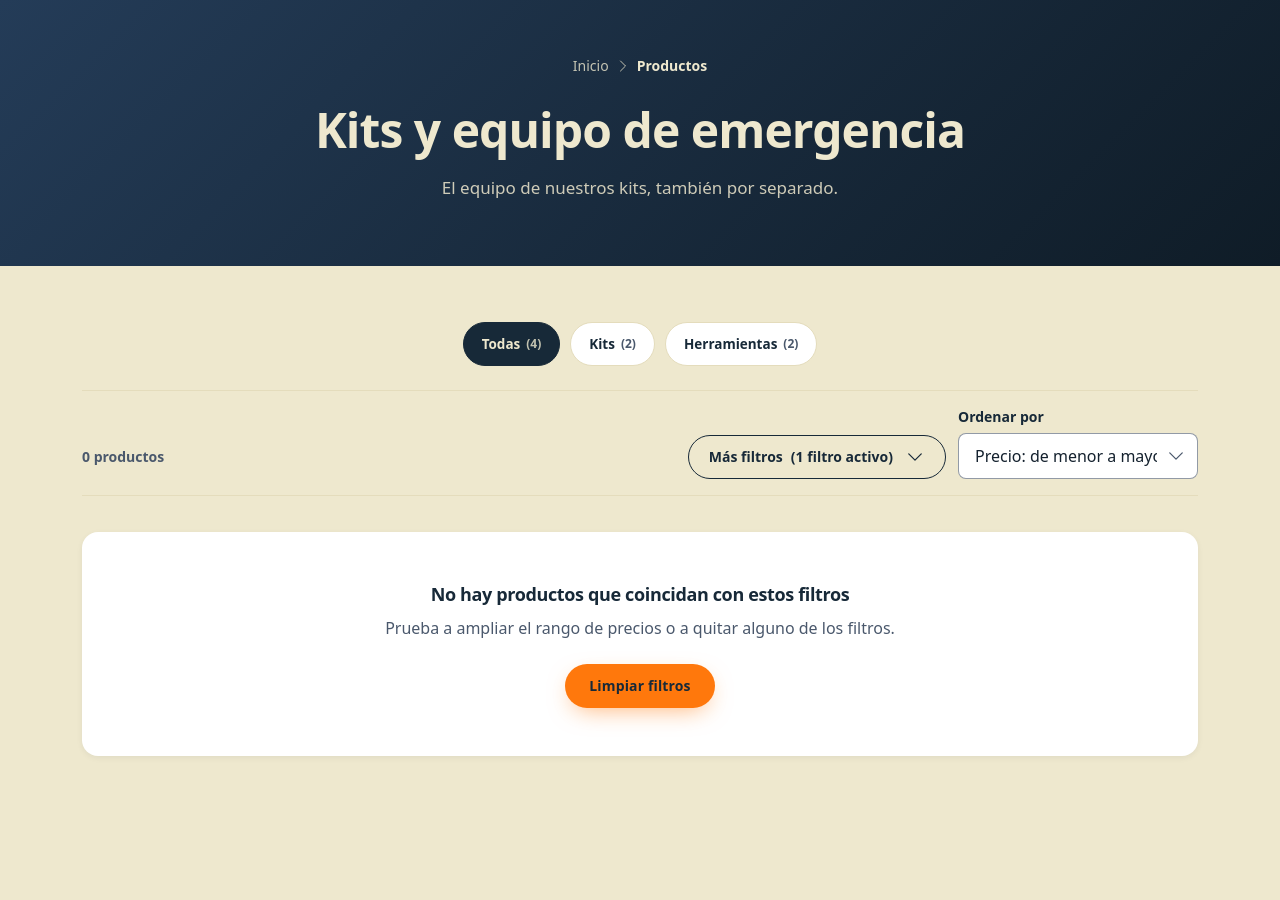
Test: CatalogView › starts from the server-parsed criteria and can clear the filters
Expected: the dropdown labelled "Ordenar por" shows "Precio: de menor a mayor", [958, 433, 1198, 479]
Expected: the text "0 productos" is shown, [82, 447, 164, 466]
Click the button "Limpiar filtros".
click(640, 686)  # box [565, 664, 715, 708]
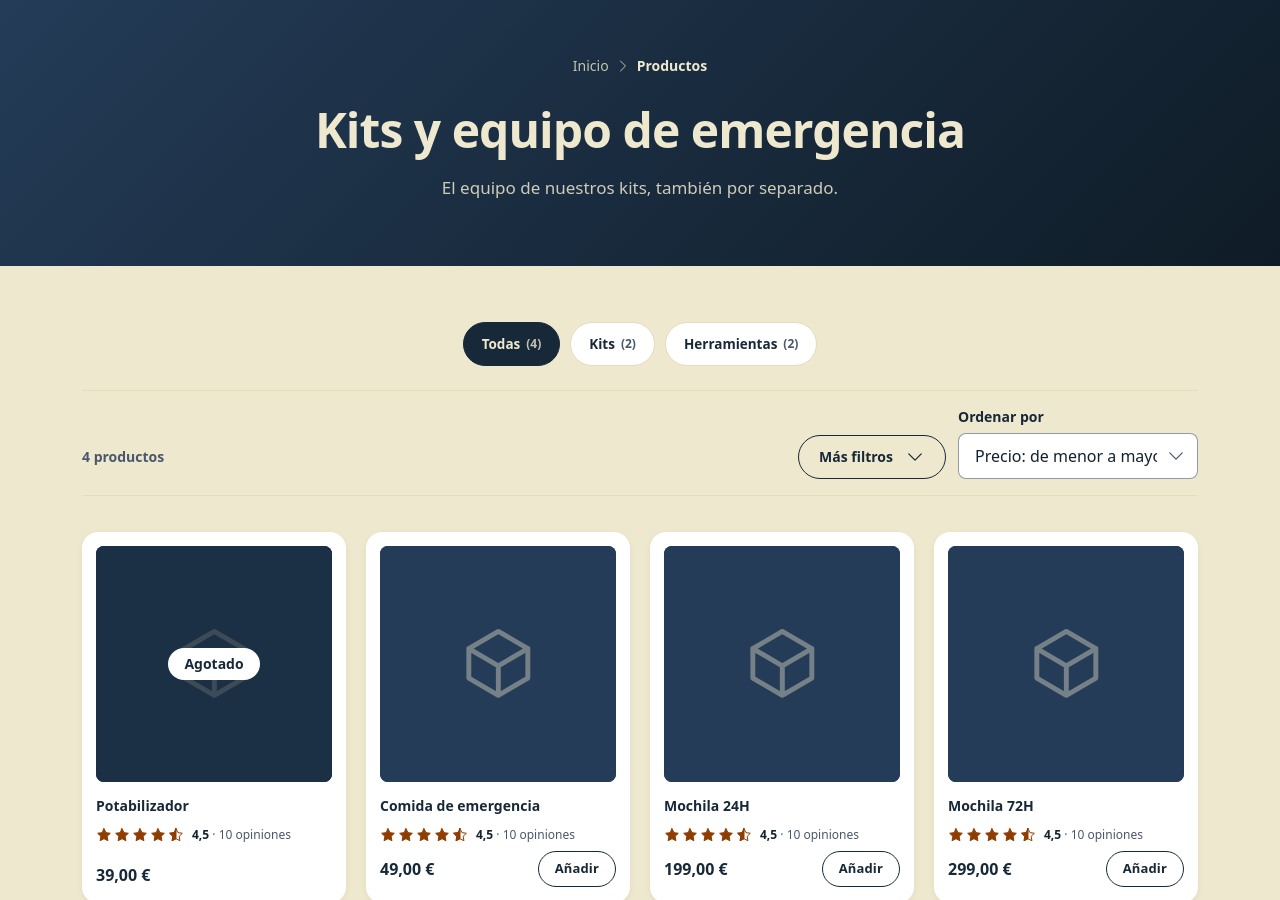
Result: the text "4 productos" is shown at [82, 447, 164, 466]
